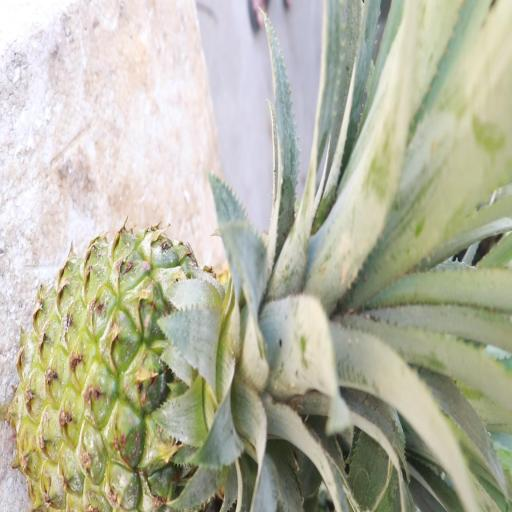------------------------------: (20, 237, 321, 512)
